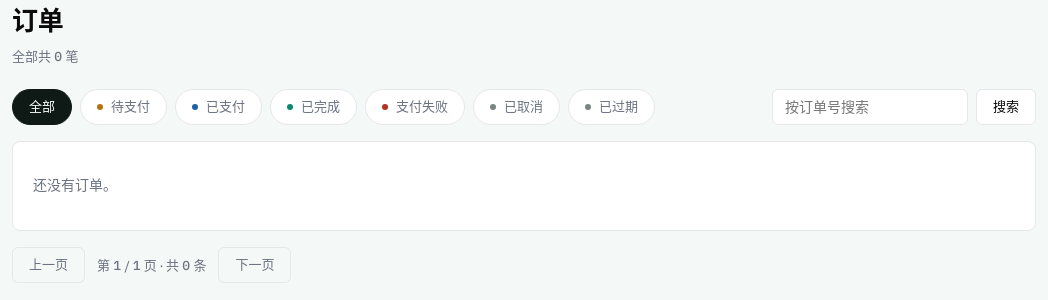
Scenario: 列表加载 › 有筛选但结果为空时提示换个条件试试
This screenshot has width=1048, height=300.
Click the button with class "admin-chip" showing "待支付": (124, 107) x1=80 y1=89 x2=167 y2=125
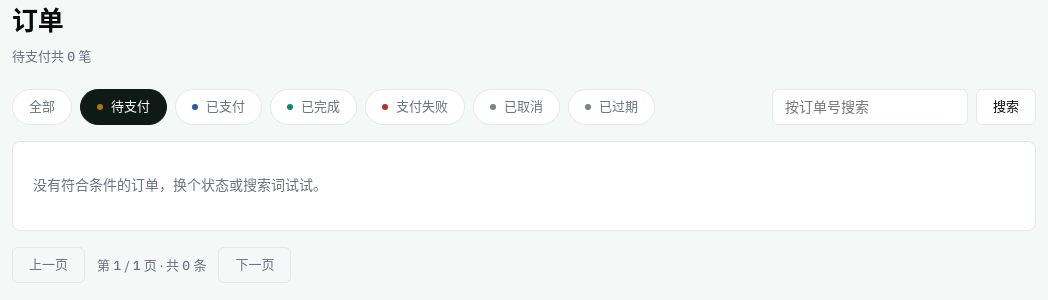
Now the text with class "admin-hint" shows "换个状态或搜索词试试", box x1=33 y1=176 x2=327 y2=194
